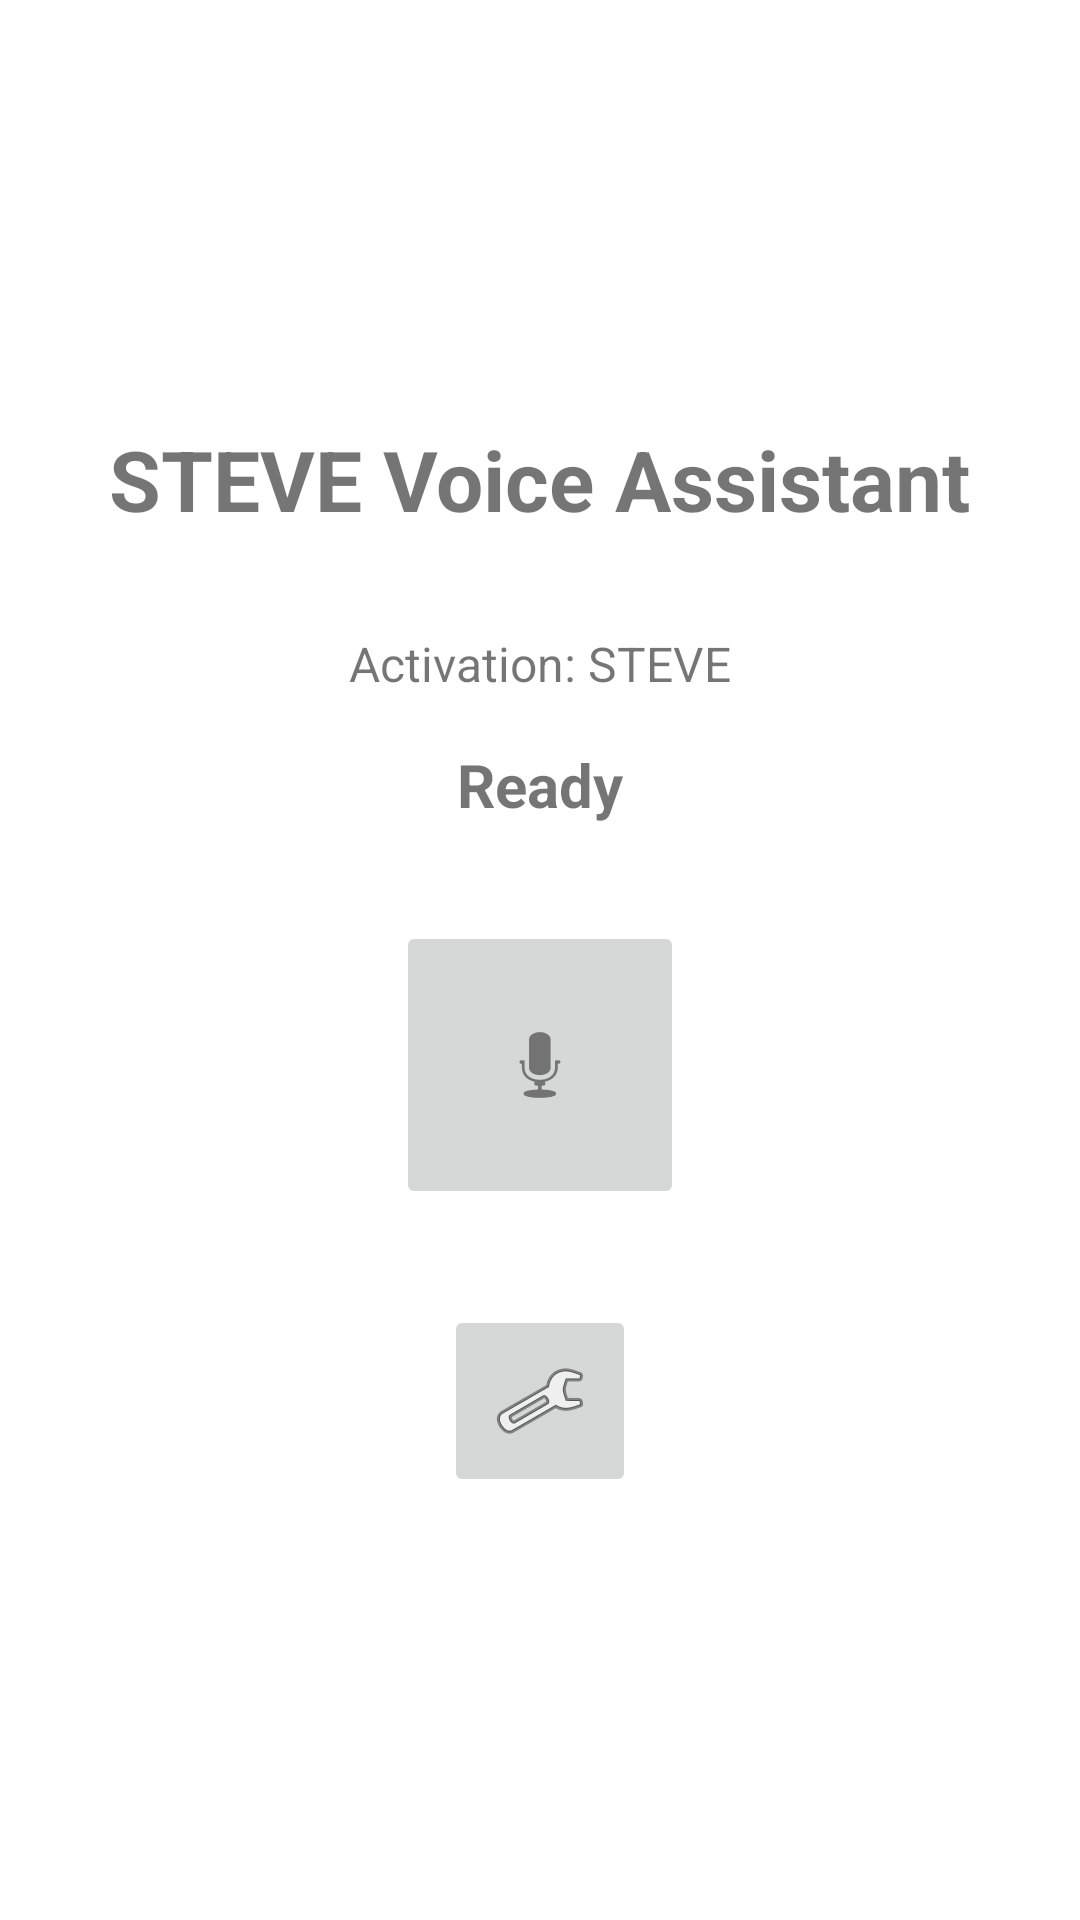

Point at icon controls on the screen. Image size 1080x1920, points as [x,y].
Microphone button: [540,1065]
Settings button: [540,1401]
